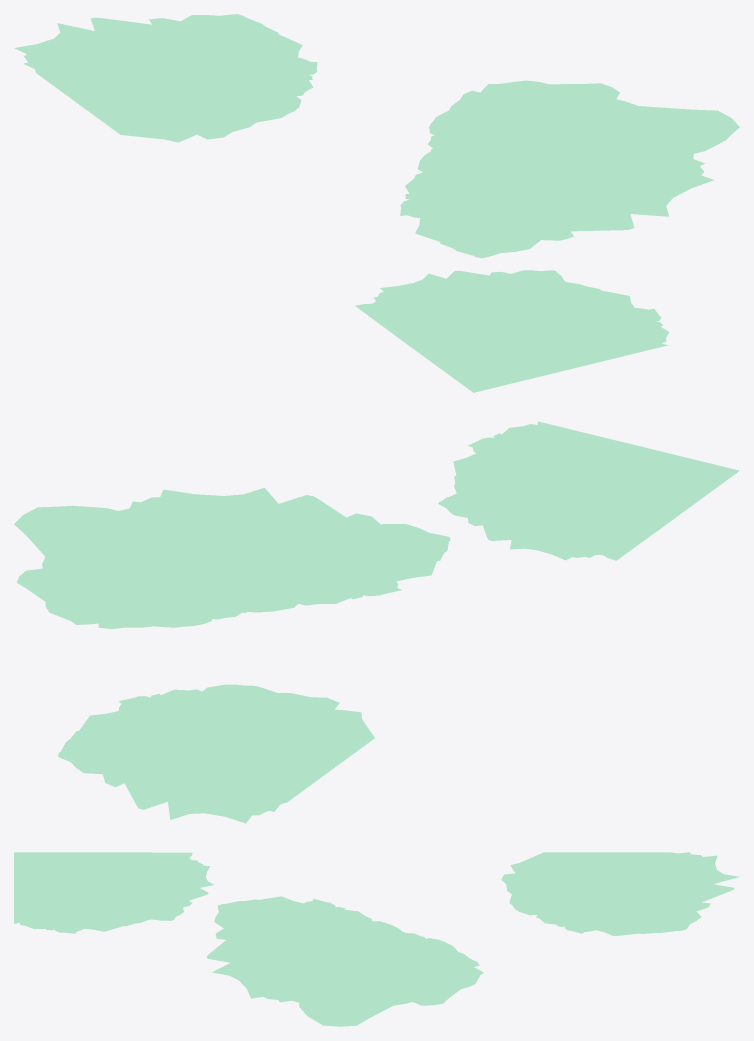
File: big_spots.fbx
3 views of the same model, one above another, from view 1: azimuth 30°, elevation 25°; view 2: azimuth 150°, elevation 25°; view 3: azimuth 270°, elevation 25° (orthographic). The views are drawn at different scales.
Parts seen in each view (by area): view 1: big_spots_3, big_spots_2, big_spots_5, big_spots_4, big_spots_1; view 2: big_spots_3, big_spots_2, big_spots_5, big_spots_4, big_spots_1; view 3: big_spots_3, big_spots_2, big_spots_5, big_spots_4, big_spots_1.
Boxes of the visible parts, box(x1,y1,x2,y2) form: big_spots_3: box(14, 14, 317, 142); big_spots_2: box(400, 99, 739, 258); big_spots_5: box(408, 281, 669, 392); big_spots_4: box(428, 80, 620, 184); big_spots_1: box(355, 270, 566, 346); big_spots_3: box(58, 684, 374, 823); big_spots_2: box(14, 488, 450, 612); big_spots_5: box(453, 421, 739, 532); big_spots_4: box(16, 546, 286, 628); big_spots_1: box(438, 483, 674, 560); big_spots_3: box(501, 852, 738, 935); big_spots_2: box(206, 896, 411, 1026); big_spots_5: box(14, 852, 157, 933); big_spots_4: box(325, 928, 483, 1005); big_spots_1: box(97, 852, 213, 920).
Size of the model in its own units: 4428 by 0.0632 by 7791.
